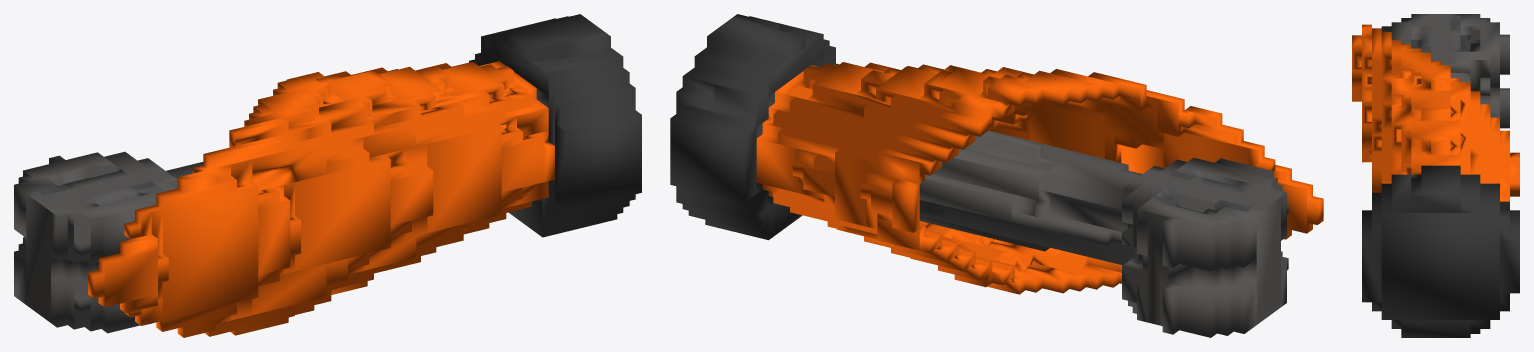
The model's file is KaishiAnteBrazo.obj.
3 renders of one model, left to right at view 1: azimuth 30°, elevation 25°; view 2: azimuth 150°, elevation 25°; view 3: azimuth 270°, elevation 25°, orthographic. The views are drawn at different scales.
Parts seen in each view (by area): view 1: kaishiantebrazo_52x18x17; view 2: kaishiantebrazo_52x18x17; view 3: kaishiantebrazo_52x18x17.
Boxes of the visible parts, x1=… form: kaishiantebrazo_52x18x17: x1=14, y1=14, x2=641, y2=337; kaishiantebrazo_52x18x17: x1=670, y1=14, x2=1323, y2=337; kaishiantebrazo_52x18x17: x1=1352, y1=14, x2=1519, y2=337.
Size of the model in its own units: 0.2969 by 0.1028 by 0.0971.
